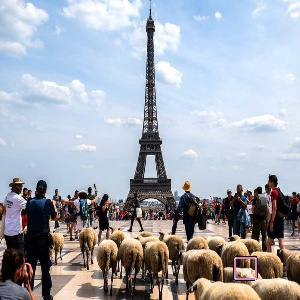square: (233, 255, 258, 281)
